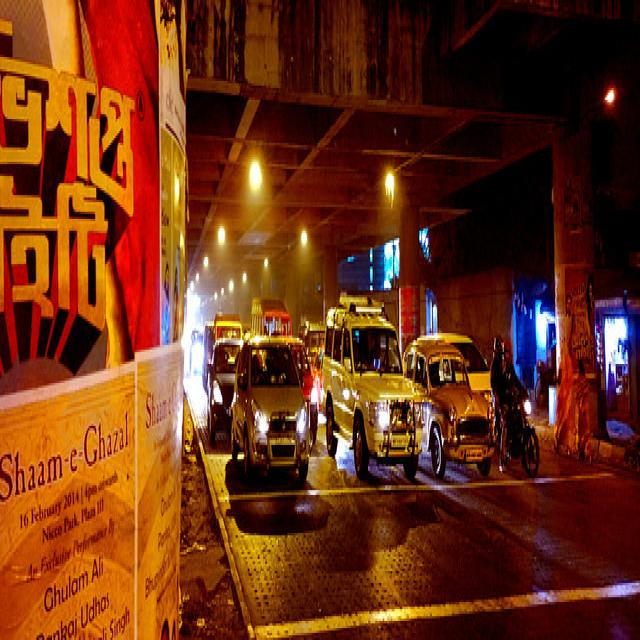Car: (189, 310, 494, 488)
Motorbike: (488, 350, 540, 476)
